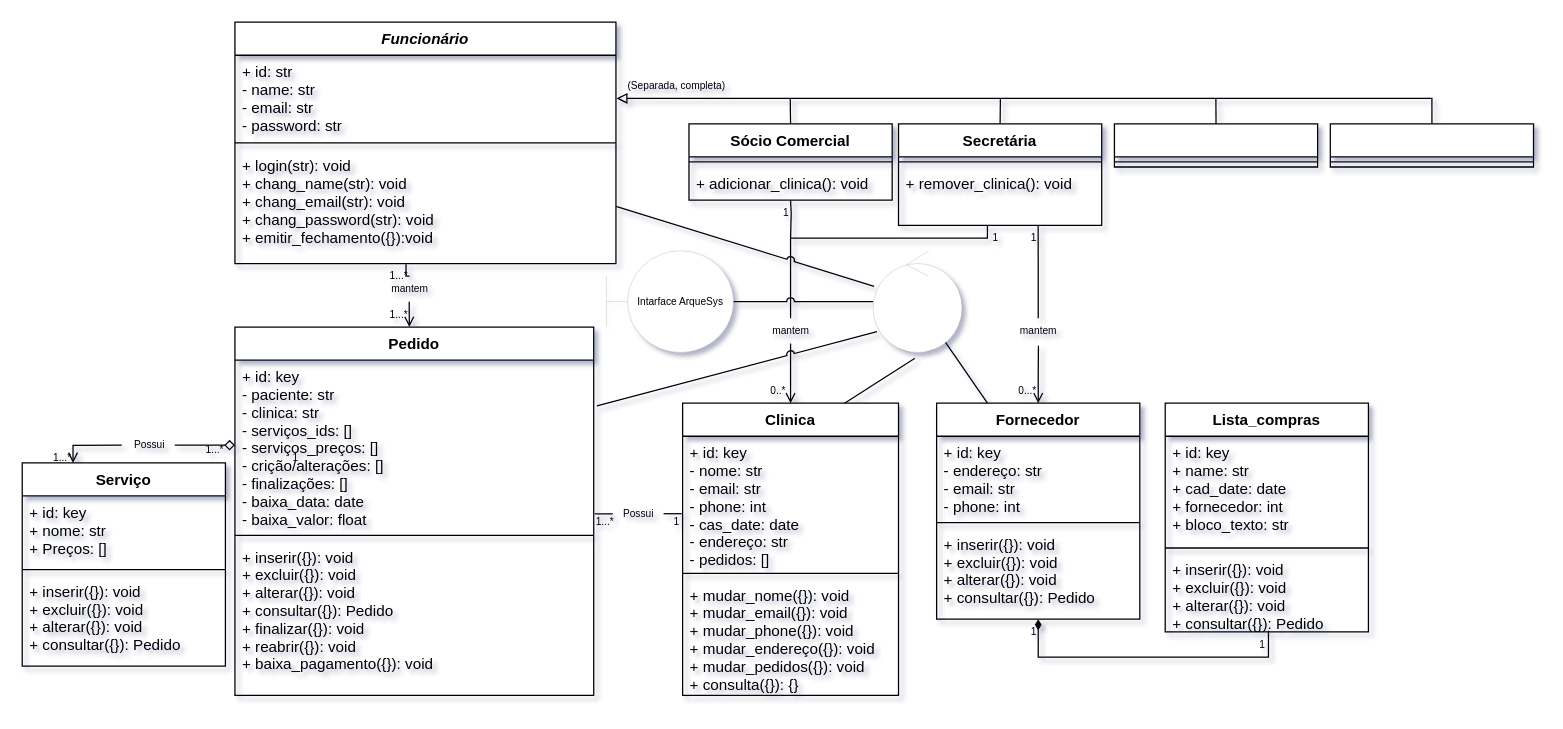
Some shapes in this 1563 by 729 pixel diagram are drawn without their labels. Here are the shapes that lost their labels. From the top down, the centre of each, then its label:
(x=1215, y=145): Sócio Operacional
(x=1431, y=145): Protético
(x=916, y=301): Control ArqueSys
